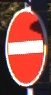No entry: (5, 8, 46, 87)
